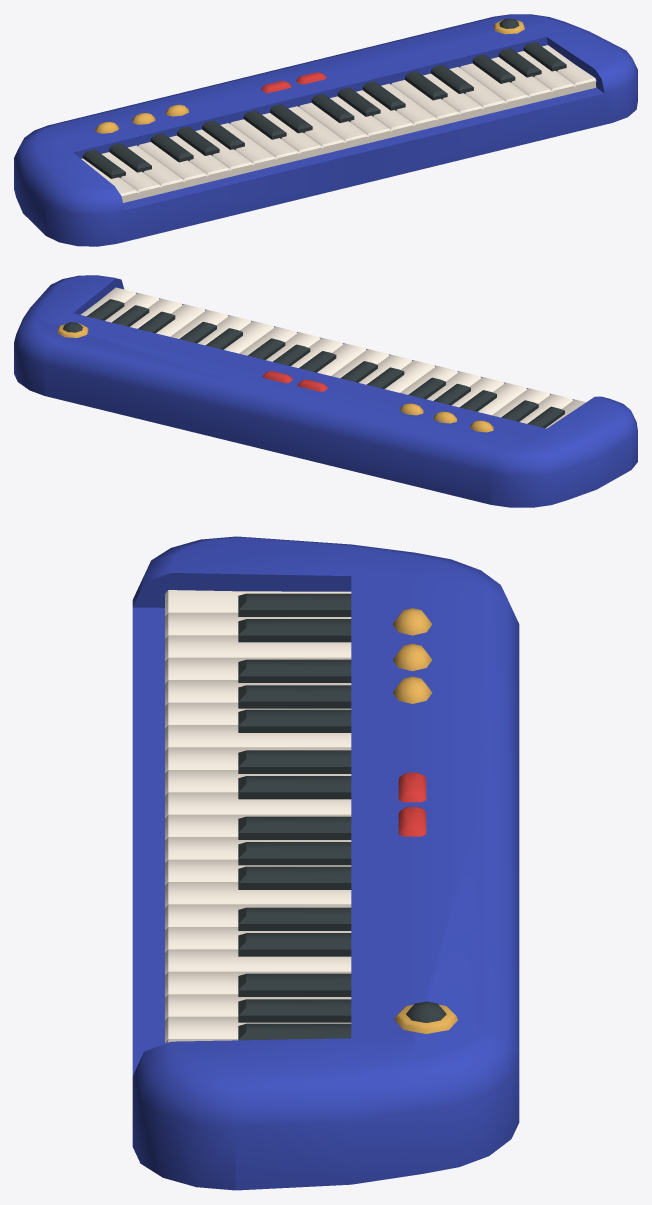
File: Piano_01.fbx
3 views of the same model, one above another, from view 1: azimuth 30°, elevation 25°; view 2: azimuth 150°, elevation 25°; view 3: azimuth 270°, elevation 25° (orthographic). The views are drawn at different scales.
Visible parts, largest first — view 1: Piano_01; view 2: Piano_01; view 3: Piano_01.
Boxes of the visible parts, bbox=[...] form: Piano_01: bbox=[14, 14, 637, 246]; Piano_01: bbox=[14, 275, 637, 507]; Piano_01: bbox=[132, 536, 519, 1190].
Bounding box in the file's own units: 1.11 × 0.1031 × 0.3171.
